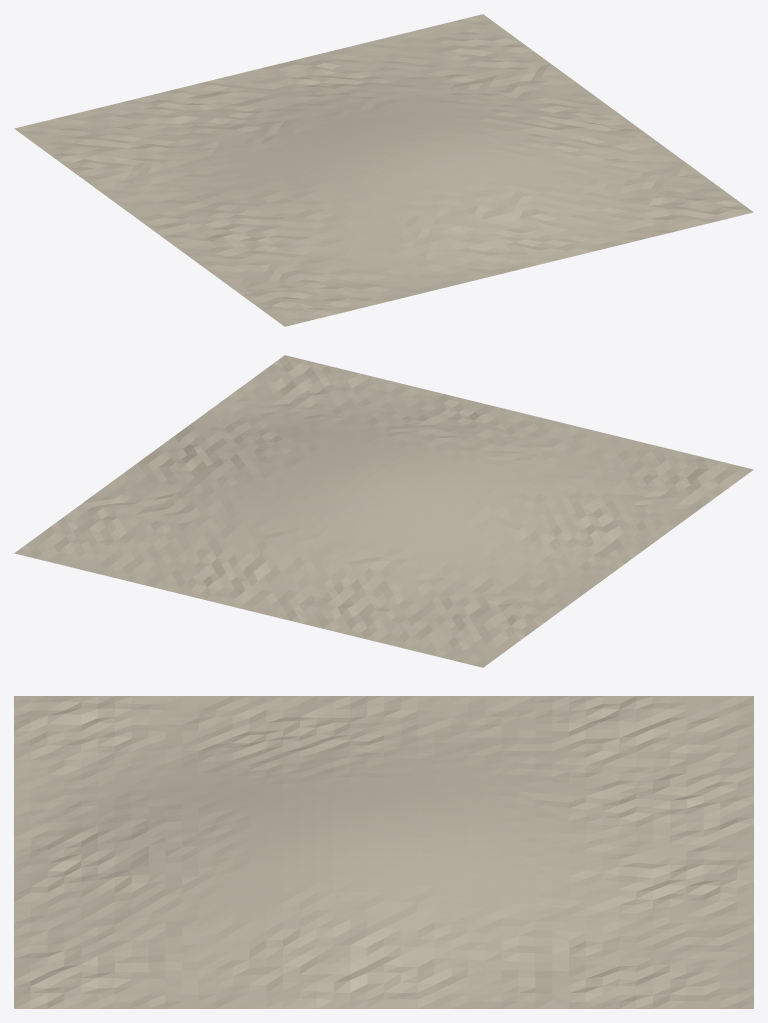
Rendered from Ground_m_06.fbx.
3 renders of one model, top to bottom at view 1: azimuth 30°, elevation 25°; view 2: azimuth 150°, elevation 25°; view 3: azimuth 270°, elevation 25°, orthographic. The views are drawn at different scales.
Visible parts, largest first — view 1: Ground_m_06; view 2: Ground_m_06; view 3: Ground_m_06.
Boxes of the visible parts, left/top/right/bottom form: Ground_m_06: left=14, top=14, right=753, bottom=326; Ground_m_06: left=14, top=355, right=753, bottom=667; Ground_m_06: left=14, top=696, right=753, bottom=1008.
Bounding box in the file's own units: 10000 × 488 × 10000.
